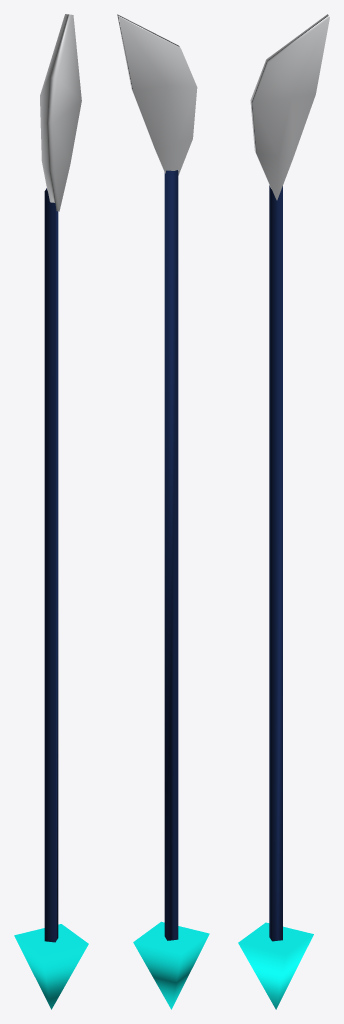
The model's file is ch-1_Arrow.FBX.
3 renders of one model, left to right at view 1: azimuth 30°, elevation 25°; view 2: azimuth 150°, elevation 25°; view 3: azimuth 330°, elevation 25°, orthographic. The views are drawn at different scales.
Parts seen in each view (by area): view 1: ch1_weapon_03; view 2: ch1_weapon_03; view 3: ch1_weapon_03.
Part boxes in pixels (left/top/right/bottom): ch1_weapon_03: left=14, top=14, right=88, bottom=1009; ch1_weapon_03: left=117, top=14, right=209, bottom=1009; ch1_weapon_03: left=238, top=14, right=329, bottom=1009.
Bounding box in the file's own units: 6.31 × 95.84 × 5.76.
